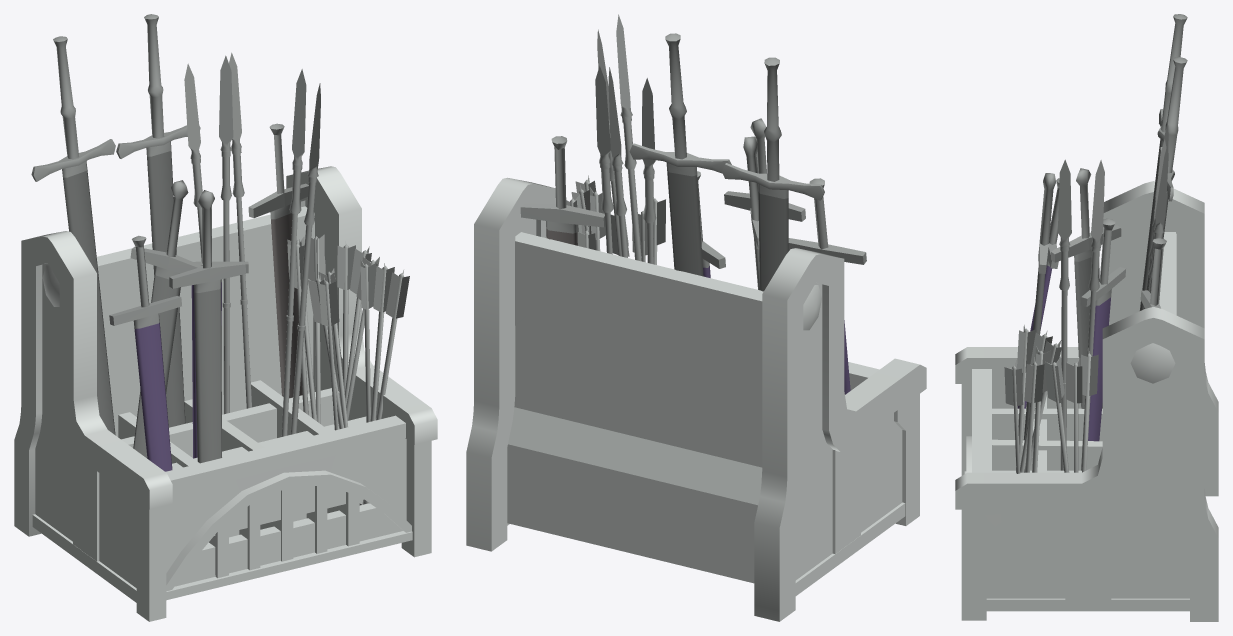
The picture shows the model from 3 angles, left to right: view 1: azimuth 30°, elevation 25°; view 2: azimuth 150°, elevation 25°; view 3: azimuth 270°, elevation 25°; orthographic projection. The views are drawn at different scales.
Parts seen in each view (by area): view 1: G:\FFXIV-MapTools\exports\n4f1\bg\ex3\01_nvt_n4\fld\n4f1\bgp (×5); view 2: G:\FFXIV-MapTools\exports\n4f1\bg\ex3\01_nvt_n4\fld\n4f1\bgp (×5); view 3: G:\FFXIV-MapTools\exports\n4f1\bg\ex3\01_nvt_n4\fld\n4f1\bgp (×5).
Part boxes in pixels (<box>): G:\FFXIV-MapTools\exports\n4f1\bg\ex3\01_nvt_n4\fld\n4f1\bgp (×5): <box>14,14,437,621</box>; G:\FFXIV-MapTools\exports\n4f1\bg\ex3\01_nvt_n4\fld\n4f1\bgp (×5): <box>466,14,926,621</box>; G:\FFXIV-MapTools\exports\n4f1\bg\ex3\01_nvt_n4\fld\n4f1\bgp (×5): <box>955,14,1218,621</box>.
Bounding box in the file's own units: 1.76 × 2.78 × 1.37.
